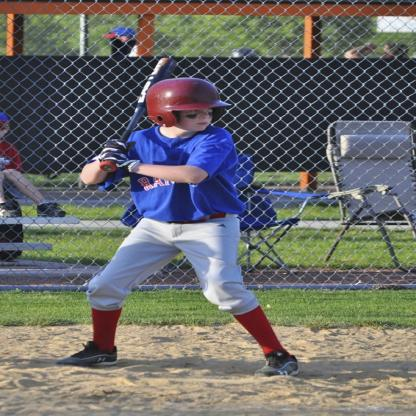Helmet: (146, 78, 227, 128)
